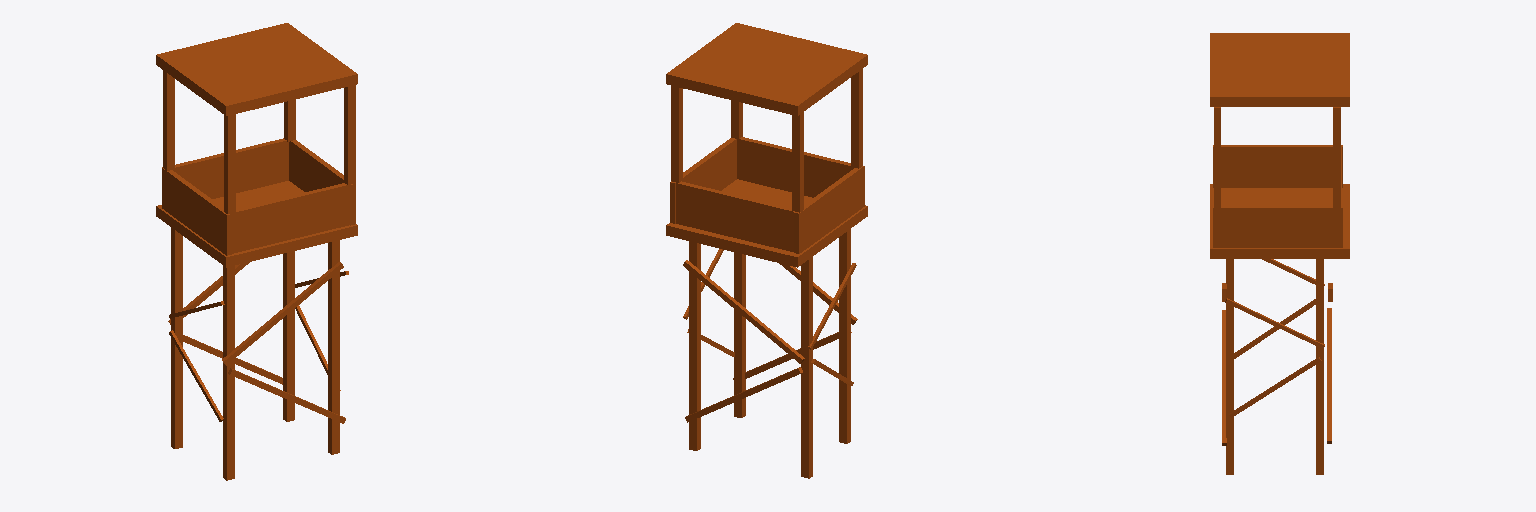
The model's file is Torre.obj.
3 renders of one model, left to right at view 1: azimuth 30°, elevation 25°; view 2: azimuth 150°, elevation 25°; view 3: azimuth 270°, elevation 25°, orthographic.
Parts seen in each view (by area): view 1: Box022; view 2: Box022; view 3: Box022.
Part boxes in pixels (bbox=[...]): Box022: bbox=[156, 23, 357, 480]; Box022: bbox=[666, 23, 867, 478]; Box022: bbox=[1210, 33, 1349, 474].
Size of the model in its own units: 28.68 by 78.55 by 26.16.